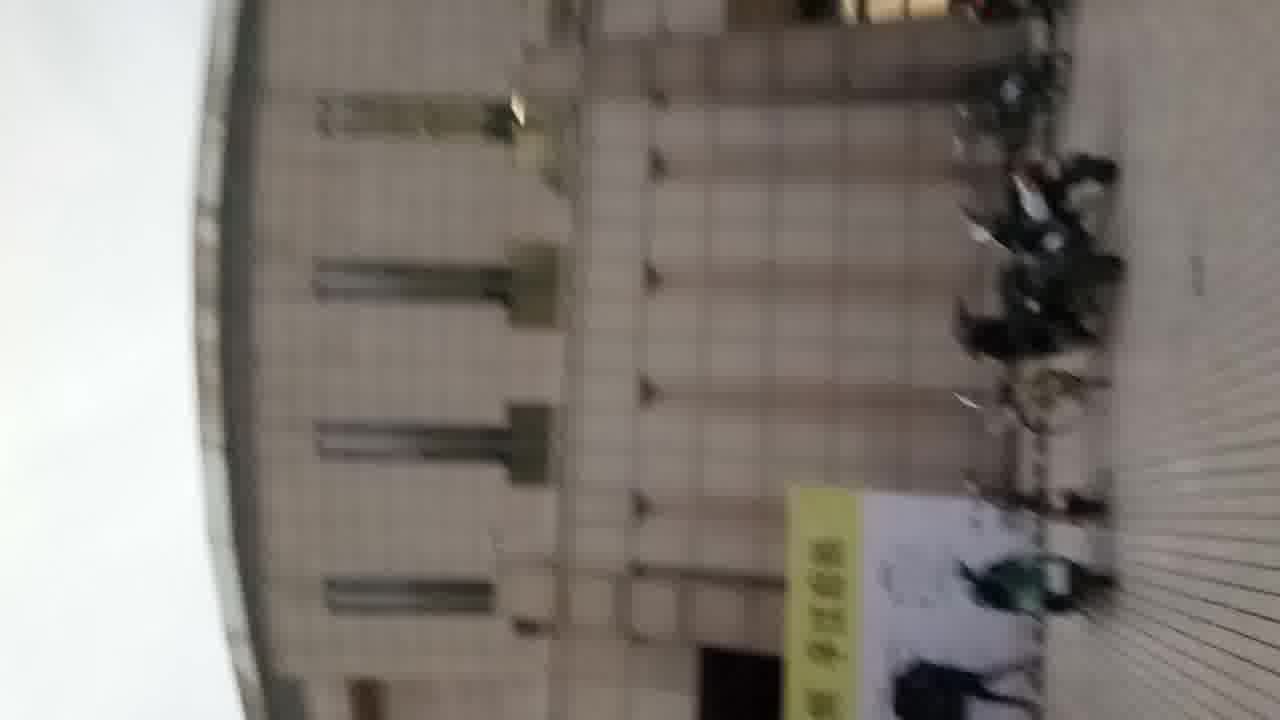zhongtiww: (178, 4, 1045, 720)
